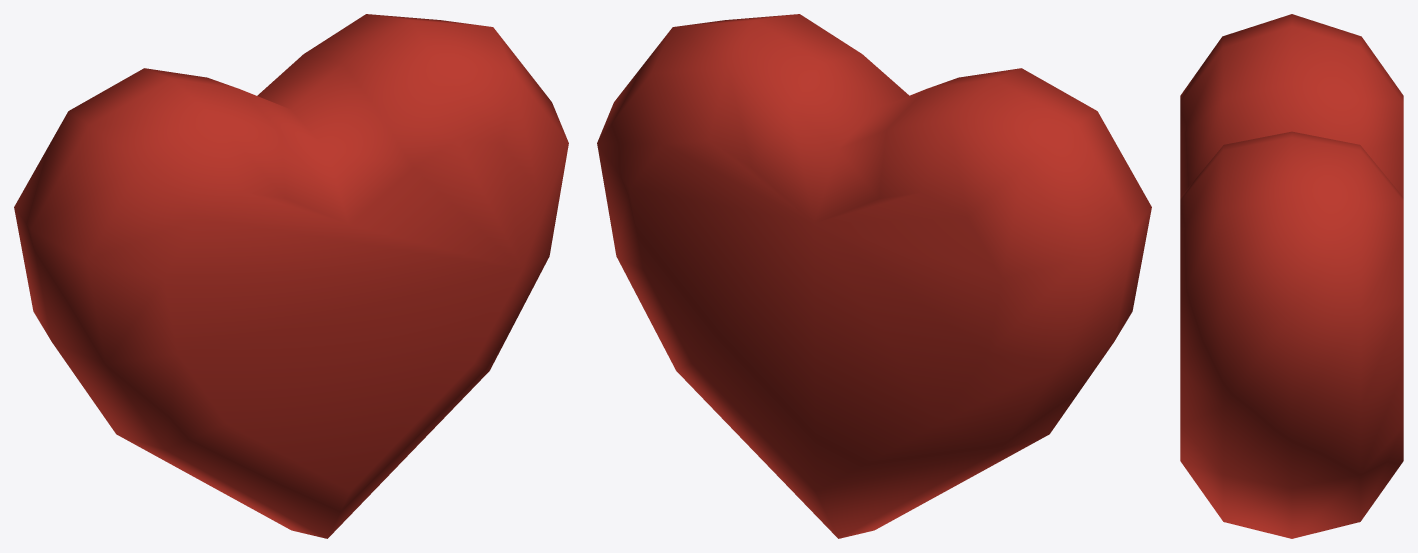
The model's file is heart.fbx.
The picture shows the model from 3 angles, left to right: view 1: azimuth 30°, elevation 25°; view 2: azimuth 150°, elevation 25°; view 3: azimuth 270°, elevation 25°; orthographic projection. The views are drawn at different scales.
Visible parts, largest first — view 1: heart; view 2: heart; view 3: heart.
Part boxes in pixels (left/top/right/bottom): heart: left=14, top=14, right=568, bottom=538; heart: left=597, top=14, right=1151, bottom=538; heart: left=1180, top=14, right=1403, bottom=538.
Size of the model in its own units: 100 by 88.18 by 39.08.
1 material, 1 textured.
